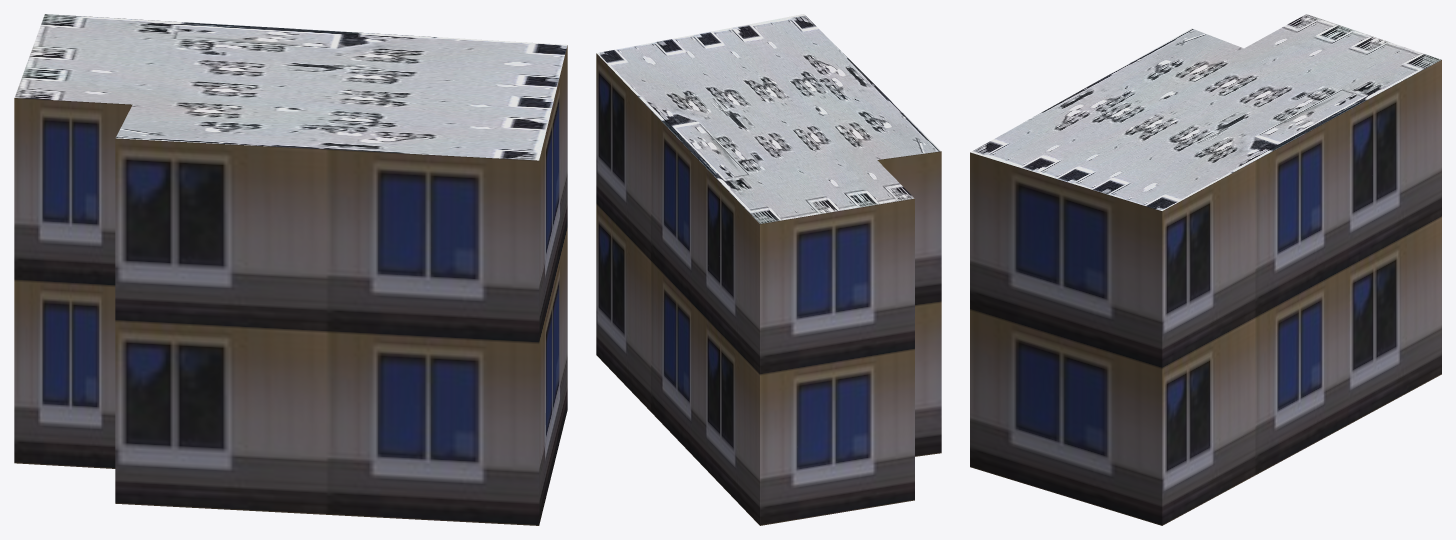
Rendered from ResTex__4447.fbx.
The picture shows the model from 3 angles, left to right: view 1: azimuth 30°, elevation 25°; view 2: azimuth 150°, elevation 25°; view 3: azimuth 270°, elevation 25°; orthographic projection. The views are drawn at different scales.
Visible parts, largest first — view 1: CityEngineMaterial_5_m, CityEngineMaterial_m; view 2: CityEngineMaterial_5_m, CityEngineMaterial_m; view 3: CityEngineMaterial_5_m, CityEngineMaterial_m.
Part boxes in pixels (x1,y1,x2,y2): CityEngineMaterial_5_m: (14, 45, 567, 525); CityEngineMaterial_m: (14, 14, 567, 160); CityEngineMaterial_5_m: (596, 53, 941, 525); CityEngineMaterial_m: (596, 14, 940, 223); CityEngineMaterial_5_m: (970, 60, 1441, 525); CityEngineMaterial_m: (970, 14, 1441, 210).
Bounding box in the file's own units: 8.06 × 6 × 8.15.
Materials: 2 (2 with a texture image).
